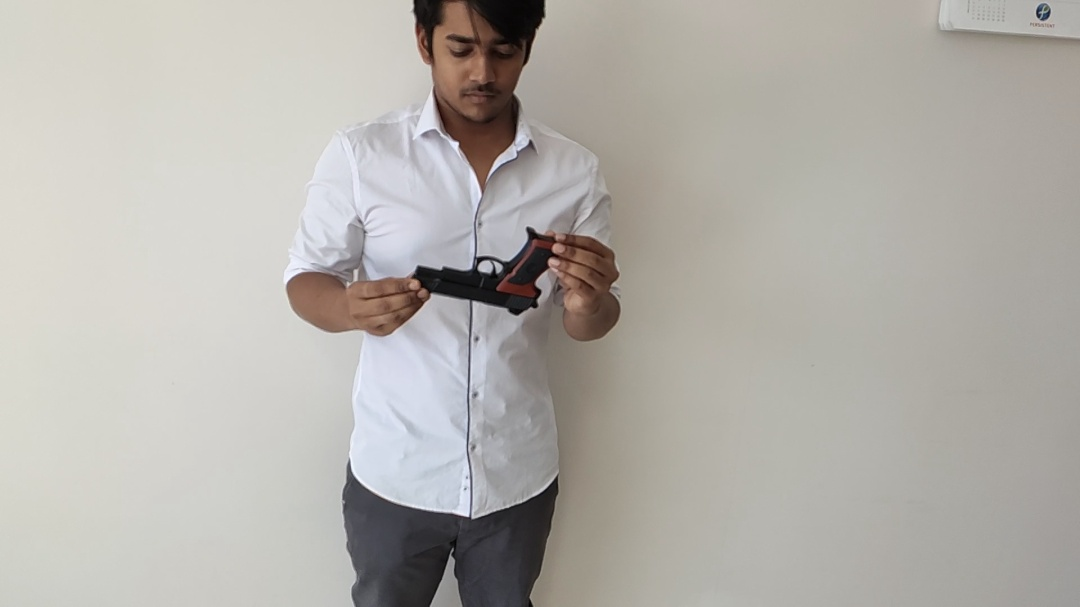gun: (151, 47, 929, 568)
